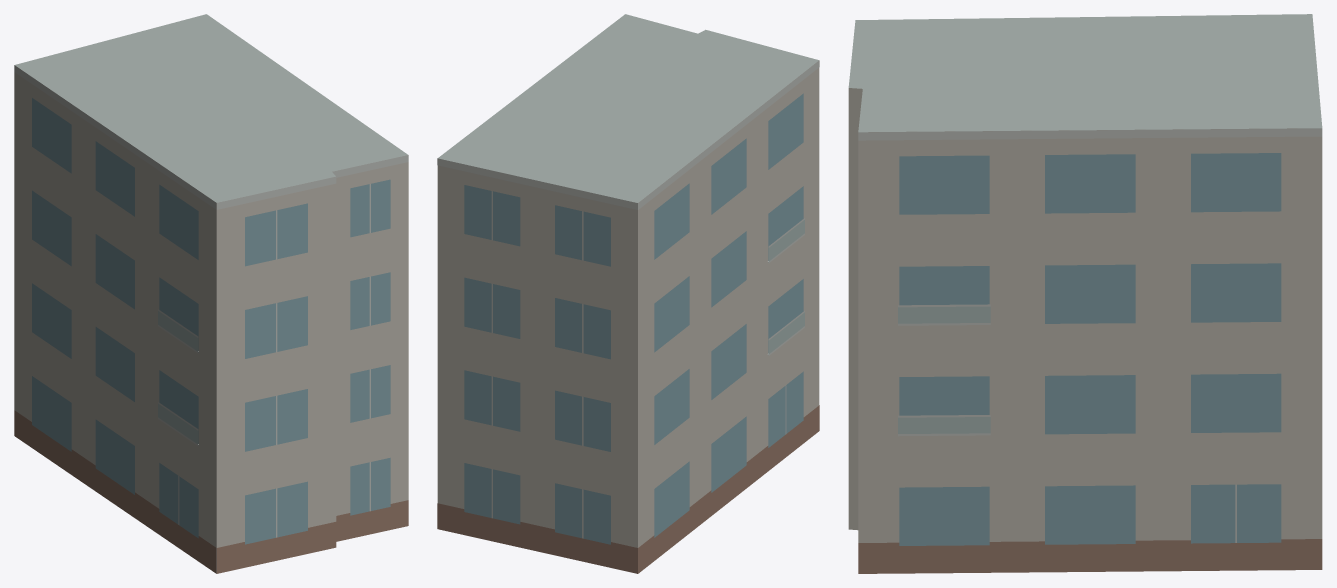
The model's file is survey-upis-32915843.glb.
3 views of the same model, side by side, from view 1: azimuth 30°, elevation 25°; view 2: azimuth 150°, elevation 25°; view 3: azimuth 270°, elevation 25° (orthographic). The views are drawn at different scales.
Visible parts, largest first — view 1: survey-upis-32915843.tmp; view 2: survey-upis-32915843.tmp; view 3: survey-upis-32915843.tmp.
Boxes of the visible parts, box(x1,y1,x2,y2) form: survey-upis-32915843.tmp: box(14, 14, 408, 573); survey-upis-32915843.tmp: box(437, 14, 819, 573); survey-upis-32915843.tmp: box(848, 14, 1322, 573).
Size of the model in its own units: 7.43 by 12.9 by 12.55.
